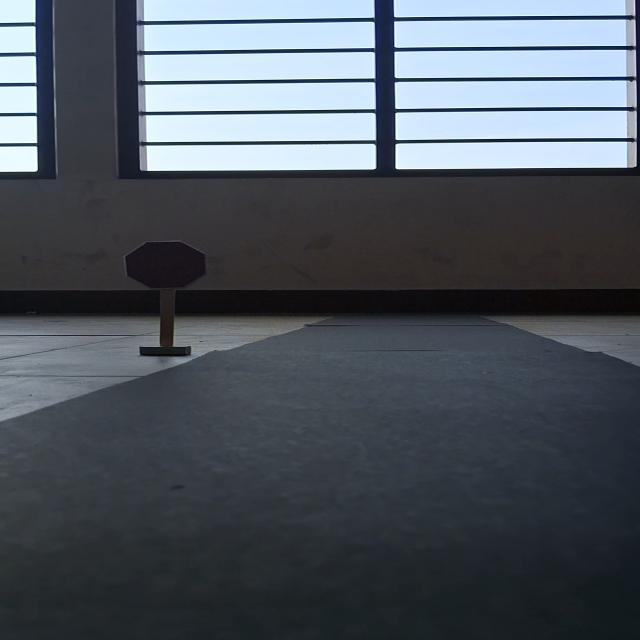Stop: (124, 241, 209, 289)
